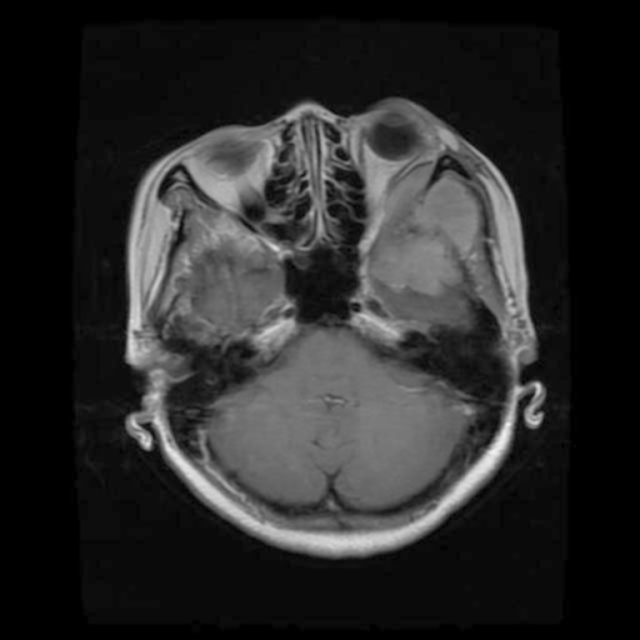meningioma tumor: (369, 222, 471, 308)
